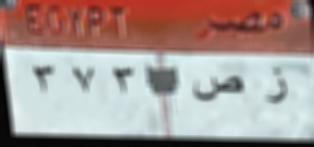3: (31, 61, 58, 104), (110, 62, 137, 103)
7: (71, 60, 98, 103)
saad: (190, 72, 248, 113)
zay: (261, 63, 292, 113)
